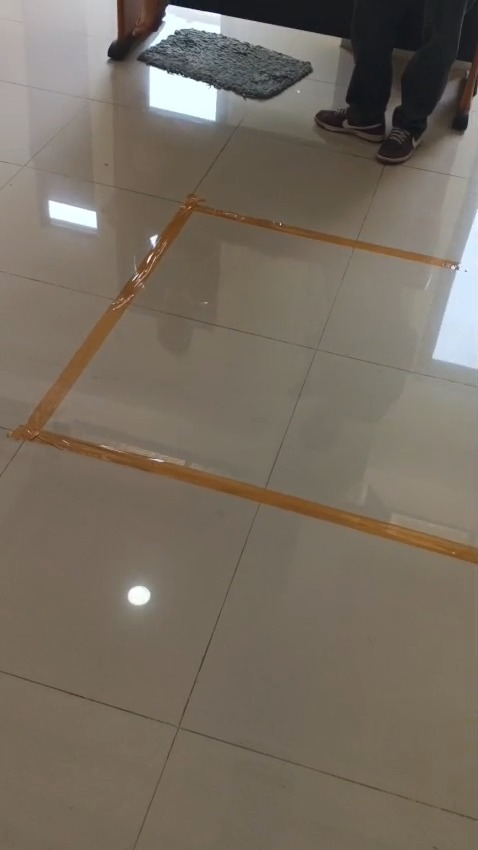floor marking: (11, 194, 477, 564)
